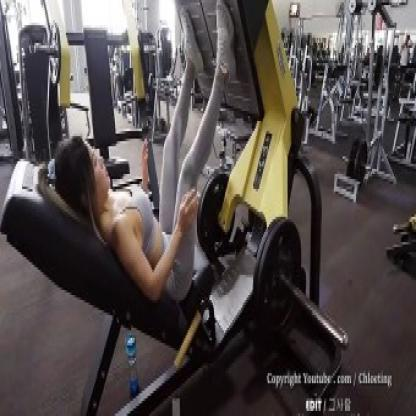leg press: (0, 0, 353, 416)
